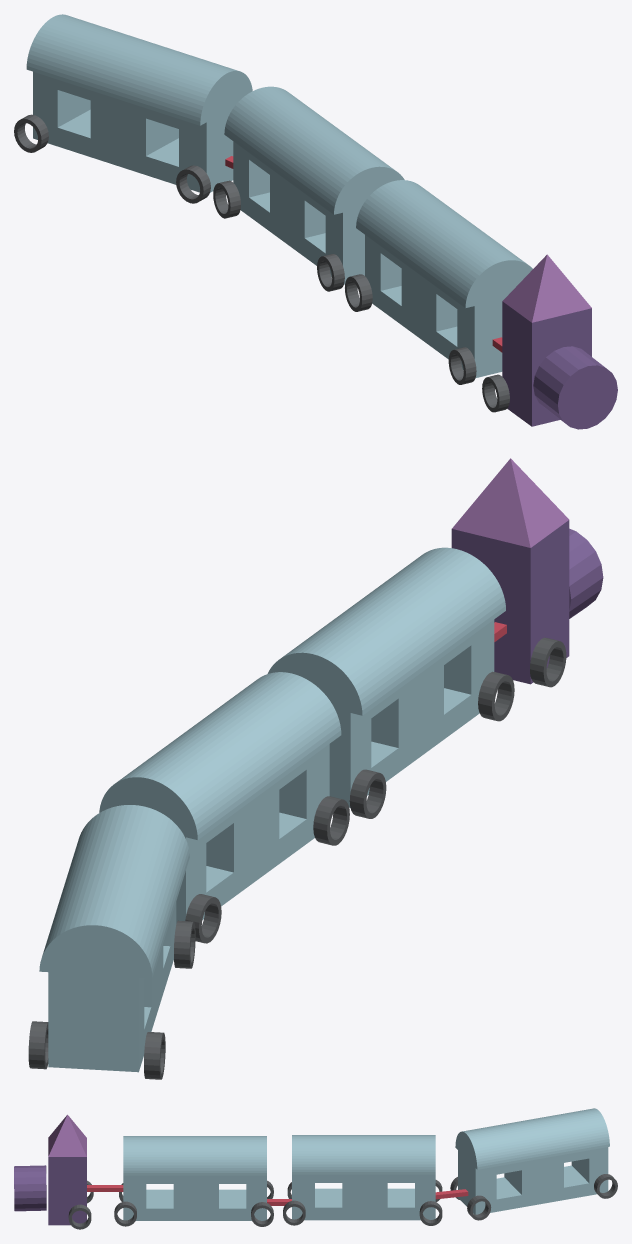
File: Magnificent Lappi-Jaagub.glb
The picture shows the model from 3 angles, top to bottom: view 1: azimuth 30°, elevation 25°; view 2: azimuth 150°, elevation 25°; view 3: azimuth 270°, elevation 25°; orthographic projection. The views are drawn at different scales.
Parts seen in each view (by area): view 1: Mesh_Mesh_head_geo.001_lambert2SG.001; view 2: Mesh_Mesh_head_geo.001_lambert2SG.001; view 3: Mesh_Mesh_head_geo.001_lambert2SG.001.
Part boxes in pixels (x1,y1,x2,y2): Mesh_Mesh_head_geo.001_lambert2SG.001: (14,14,617,429); Mesh_Mesh_head_geo.001_lambert2SG.001: (28,458,603,1079); Mesh_Mesh_head_geo.001_lambert2SG.001: (14,1108,617,1229).
Size of the model in its own units: 58.62 by 49 by 265.
